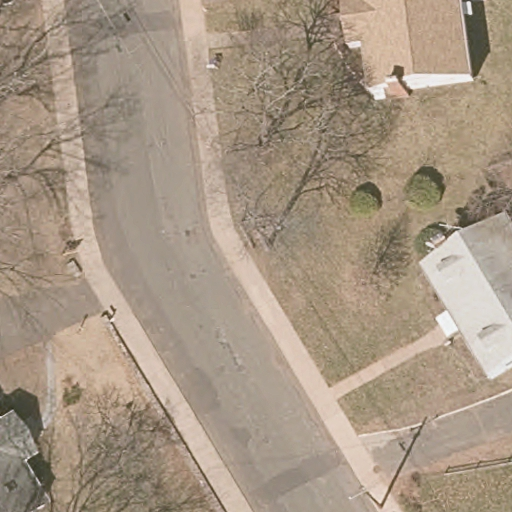DT: (91, 8, 137, 52)
